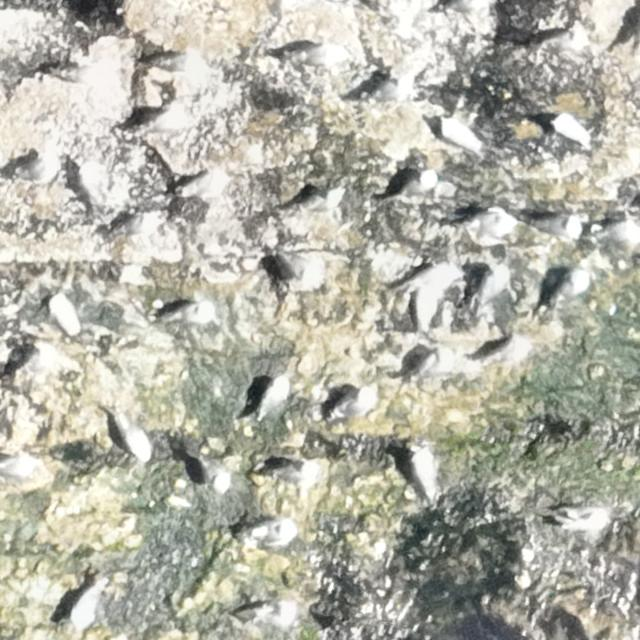umineko: (269, 250, 319, 286), (77, 158, 108, 208), (328, 386, 372, 421), (410, 449, 438, 501), (363, 72, 414, 100), (411, 346, 451, 380), (120, 418, 150, 463), (287, 42, 348, 64), (198, 454, 231, 494), (477, 265, 510, 305), (442, 118, 483, 150), (483, 337, 528, 366), (52, 294, 78, 341), (256, 379, 289, 416), (270, 463, 320, 487), (73, 584, 100, 628), (555, 114, 592, 146), (554, 270, 590, 302), (296, 190, 342, 215), (538, 215, 586, 238), (398, 170, 436, 199), (252, 518, 294, 544), (188, 171, 227, 197), (166, 306, 216, 326), (17, 159, 57, 180), (52, 63, 94, 81), (5, 458, 36, 477)
